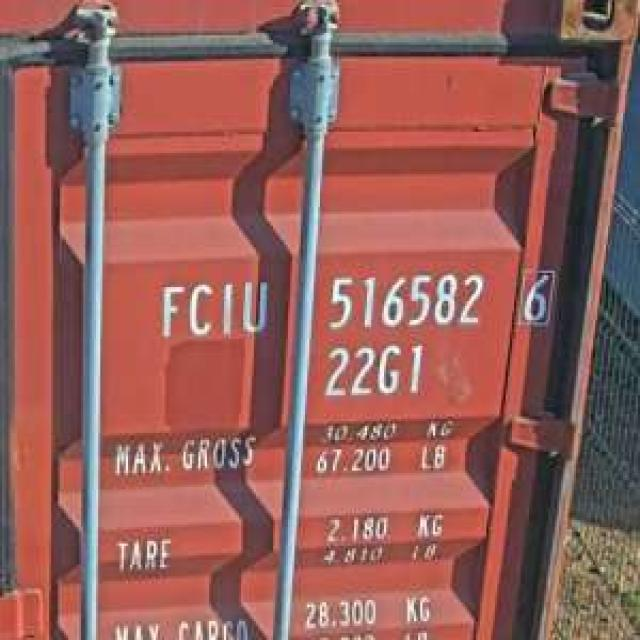dv: (516, 262, 557, 330)
owner: (151, 273, 271, 343)
serial: (320, 264, 489, 334)
size: (318, 339, 429, 402)
